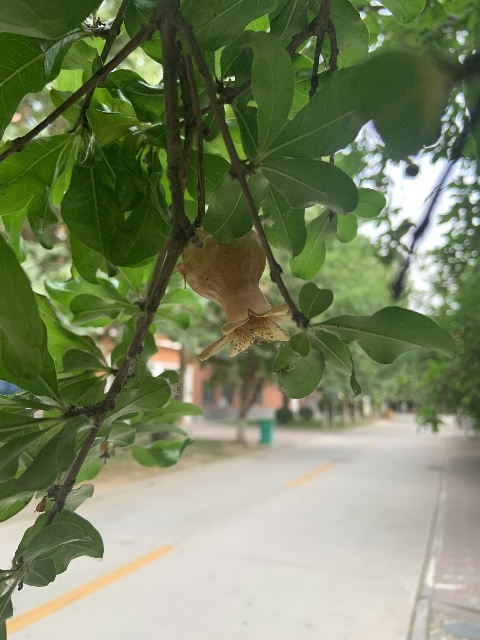early-fruit: (176, 225, 296, 359)
